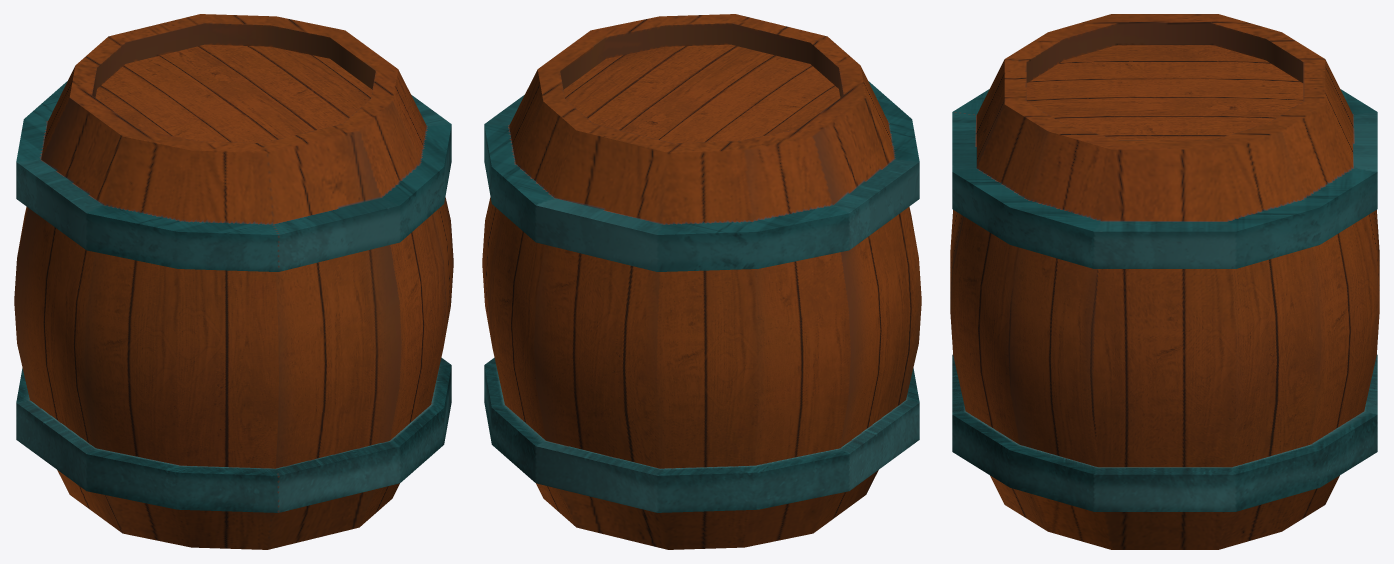
The model's file is Barrel.fbx.
3 views of the same model, side by side, from view 1: azimuth 30°, elevation 25°; view 2: azimuth 150°, elevation 25°; view 3: azimuth 270°, elevation 25° (orthographic).
Parts seen in each view (by area): view 1: Cube.004; view 2: Cube.004; view 3: Cube.004.
Boxes of the visible parts, x1=… form: Cube.004: x1=14, y1=14, x2=453, y2=549; Cube.004: x1=482, y1=14, x2=921, y2=549; Cube.004: x1=950, y1=14, x2=1379, y2=549.
Size of the model in its own units: 226 by 233 by 226.
